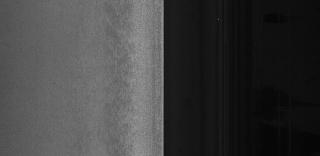silk spot: (106, 59, 138, 105)
